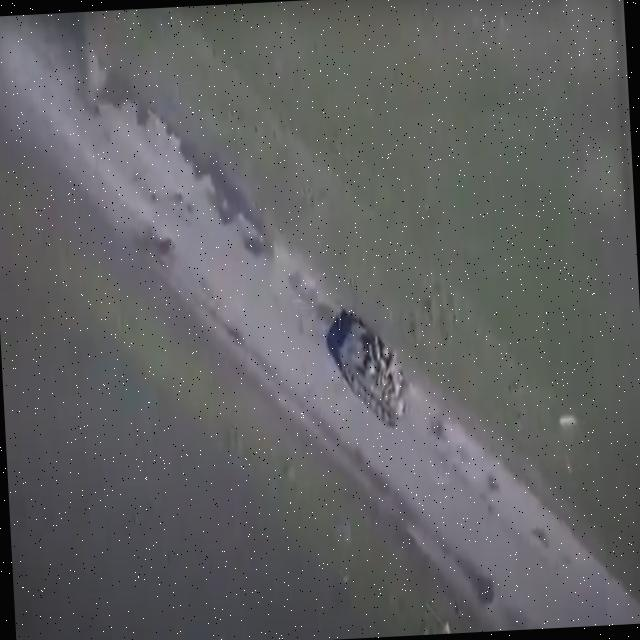AIFV: (336, 309, 417, 437)
